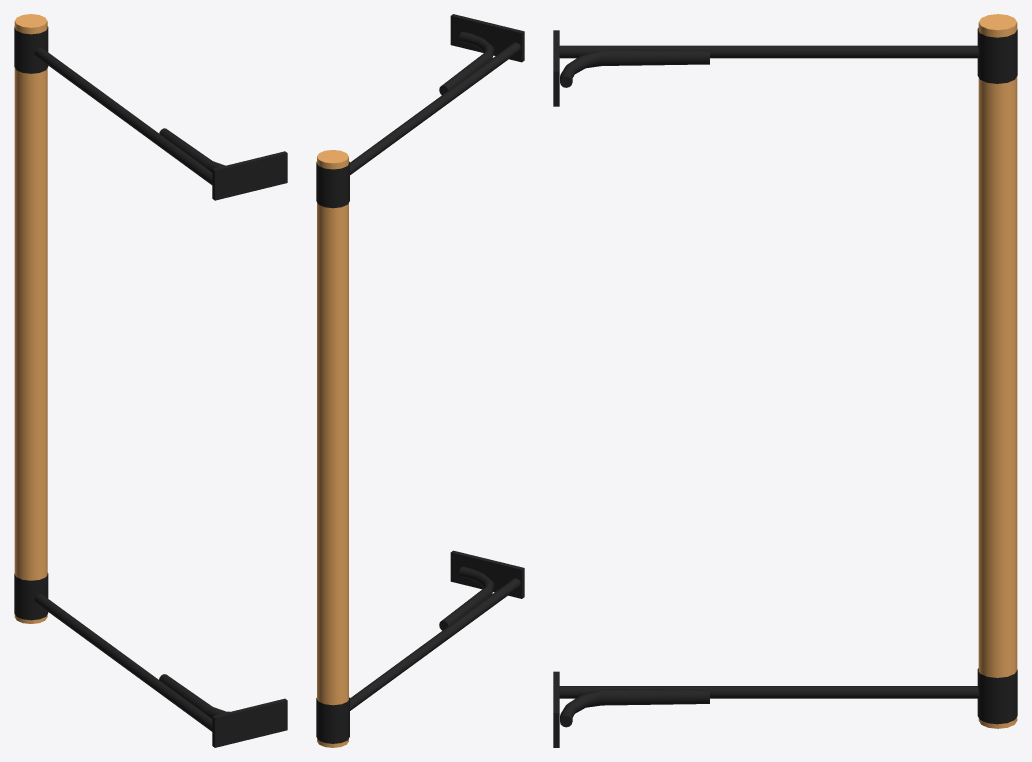
The picture shows the model from 3 angles, left to right: view 1: azimuth 30°, elevation 25°; view 2: azimuth 150°, elevation 25°; view 3: azimuth 270°, elevation 25°; orthographic projection. The views are drawn at different scales.
Parts seen in each view (by area): view 1: Circle; view 2: Circle; view 3: Circle.
Part boxes in pixels (x1,y1,x2,y2): Circle: (14,14,287,747); Circle: (316,14,524,747); Circle: (553,14,1017,747).
Bounding box in the file's own units: 28.75 × 200 × 121.
